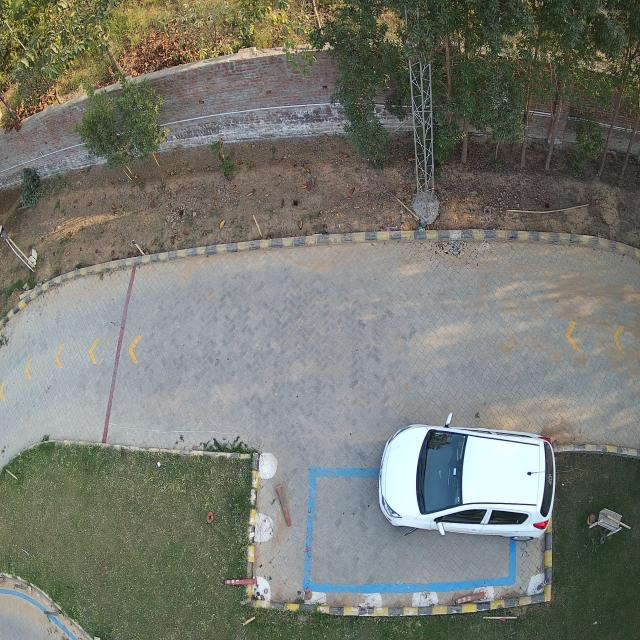car: (377, 426, 553, 541)
